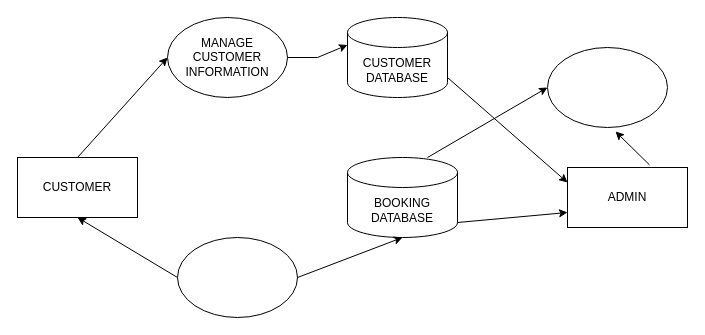
This 705x335 diagram has some shape labels left out. The shapes that lost their labels are listed below. From the top down, each one's centre as x and y in pixels, then its label:
point (607, 87): MANAGE BOOKING INFORMATION
point (237, 277): MANAGE BOOKING
